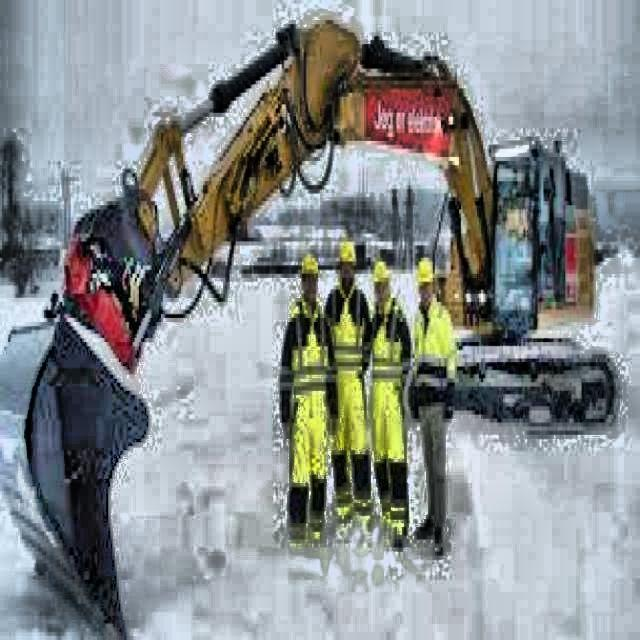bull_dozer/loader/grader: (2, 9, 624, 640)
person: (278, 254, 343, 550), (324, 240, 372, 542), (410, 253, 457, 560), (369, 260, 412, 555)
